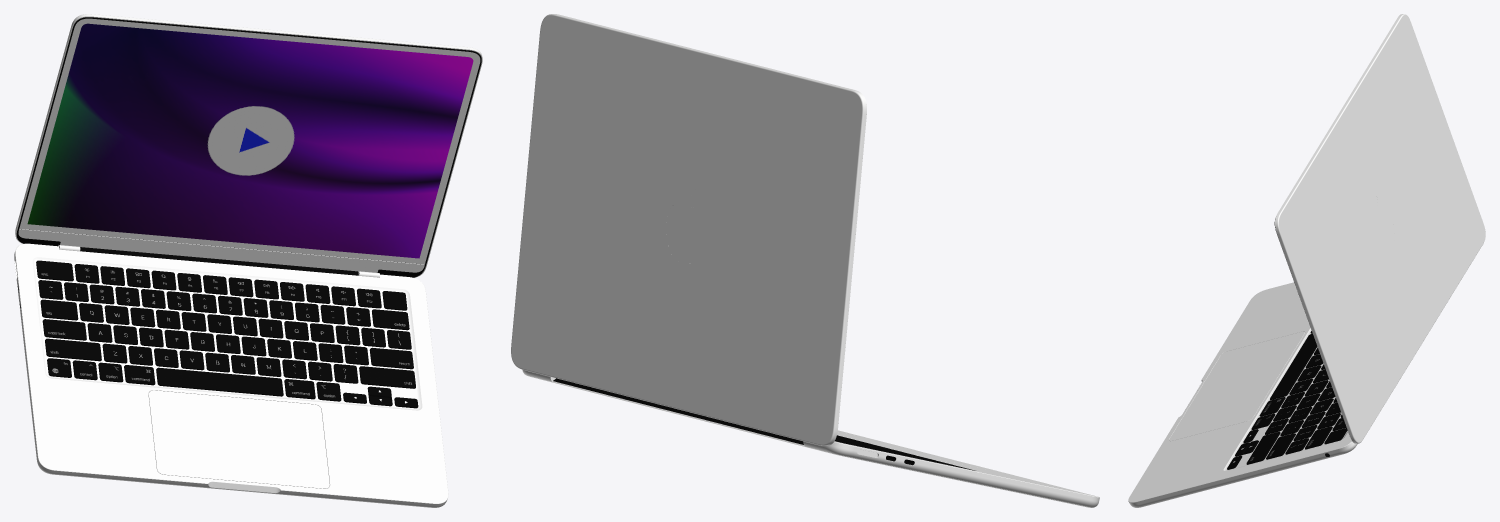
The model's file is macbook_silver_01.glb.
The picture shows the model from 3 angles, left to right: view 1: azimuth 30°, elevation 25°; view 2: azimuth 150°, elevation 25°; view 3: azimuth 270°, elevation 25°; orthographic projection. The views are drawn at different scales.
Parts seen in each view (by area): view 1: macbook_body; view 2: macbook_body; view 3: macbook_body.
Boxes of the visible parts, box(x1,y1,x2,y2) form: macbook_body: box(14, 14, 482, 507); macbook_body: box(511, 14, 1099, 507); macbook_body: box(1128, 14, 1485, 507).
Bounding box in the file's own units: 0.3787 × 0.3491 × 0.2832.
Materials: 5 (2 with a texture image).
